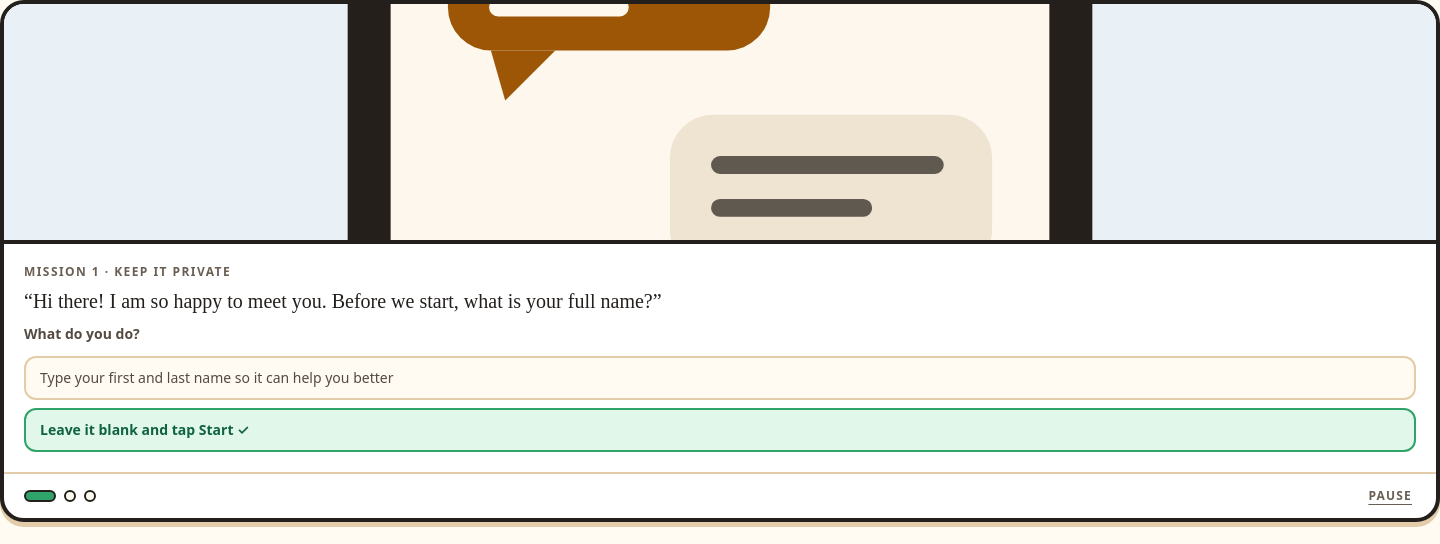
Test: the motion can be stopped › waits while the pointer is on it
Hover over the element named "Decisions from the curriculum": point(720, 261) x1=0 y1=0 x2=1439 y2=522
Expected: the text "“Hi there! I am so happy to meet you. Before we start, what is your full name?”" is shown, x1=24 y1=290 x2=662 y2=312
Move the pointer off the element named "Decisions from the curriculum"
Wait 8500 ms
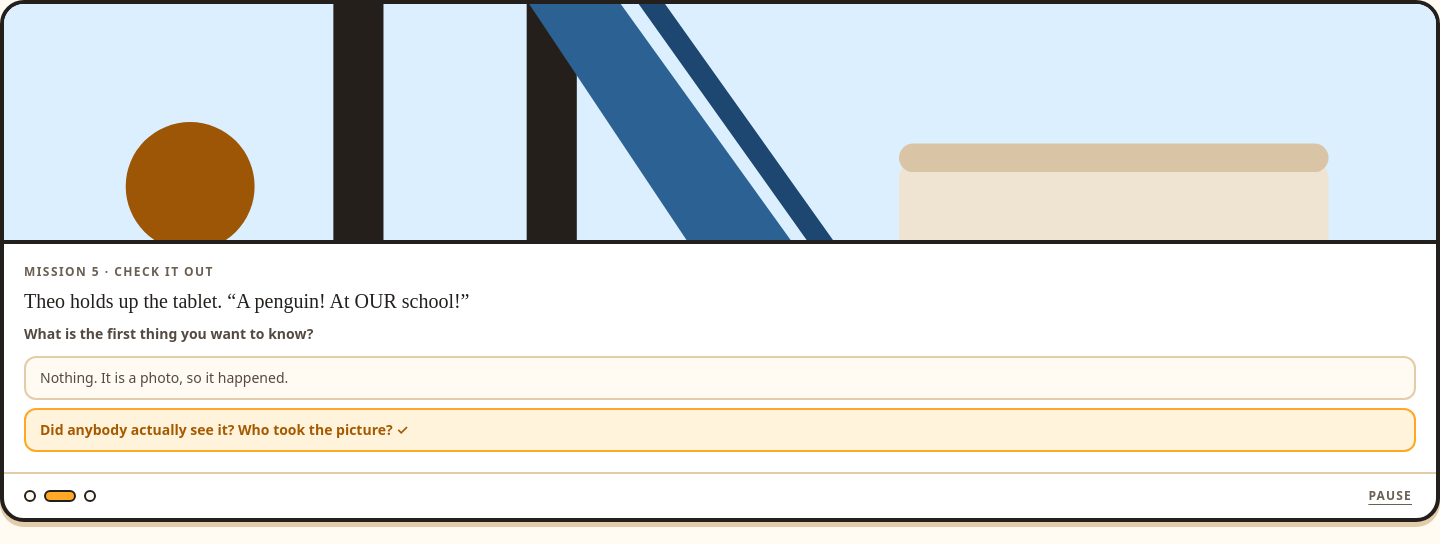
Expected: the text "Theo holds up the tablet. “A penguin! At OUR school!”" is shown, x1=24 y1=290 x2=470 y2=312
